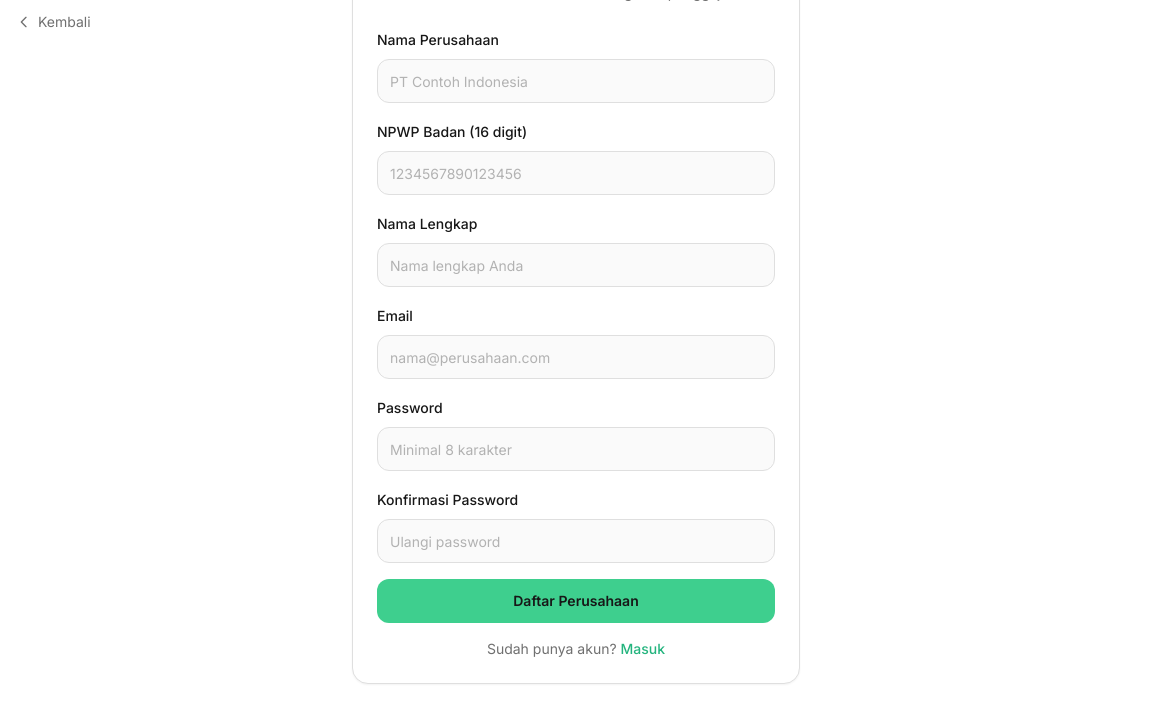
Test: RegisterCompanyPage › shows error when nama perusahaan is empty
(page scrolled)
Click the button "Daftar Perusahaan".
click(576, 601)  # box [377,579,775,623]
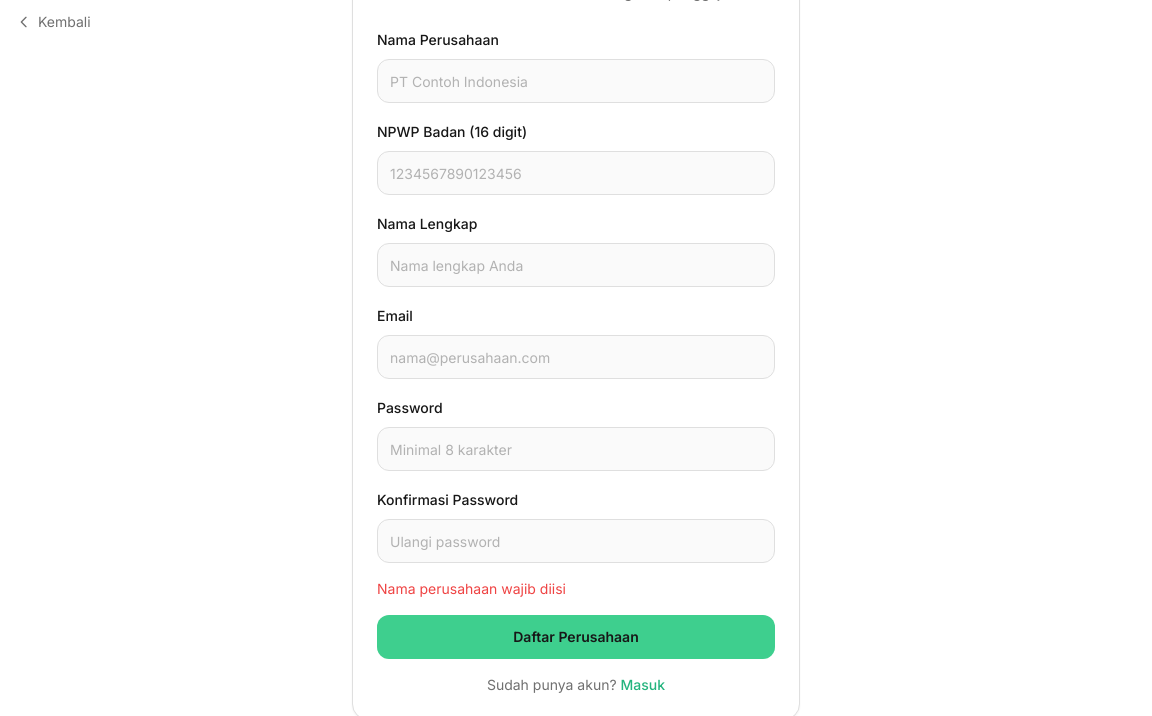
expect the text "Nama perusahaan wajib diisi" is shown: met, box [377,580,566,597]
